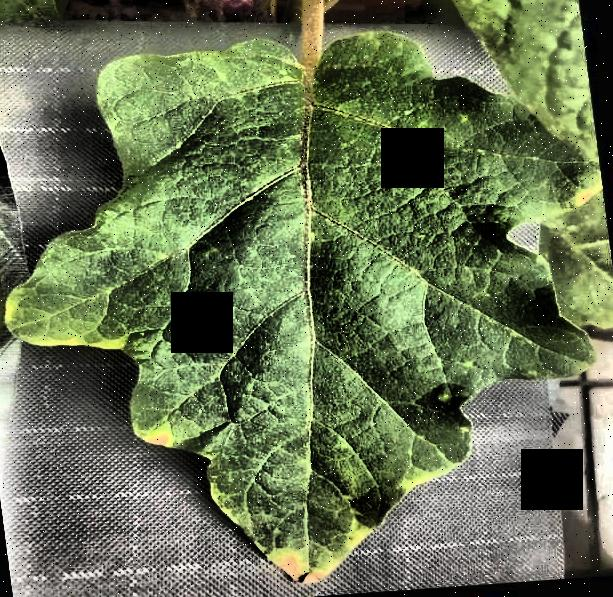Non-critical Stress: (0, 0, 613, 597)
